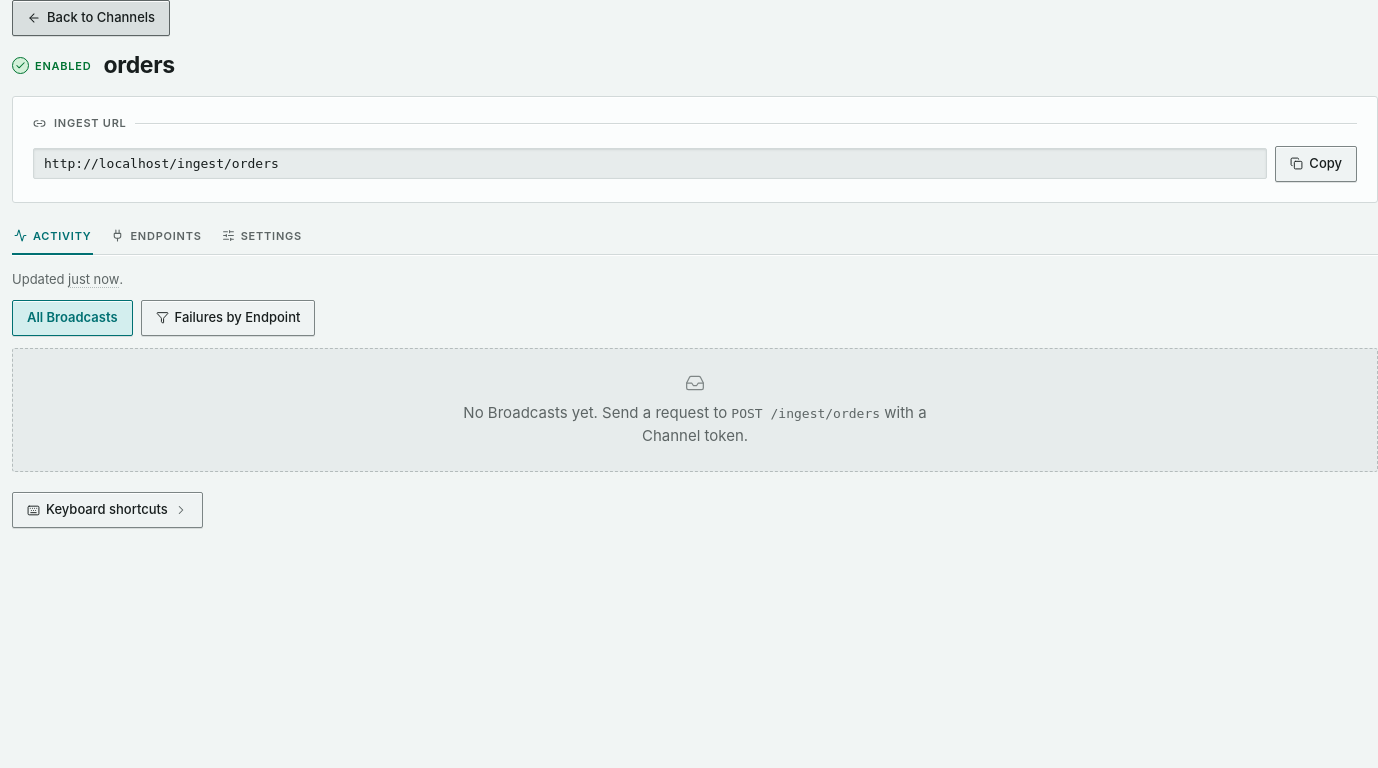
Ingest URL visibility (issue #47) › says so when the copy fails instead of appearing to do nothing
Step 1. Click the button "Copy" → coordinates (1316, 164), box [1275,146,1357,182]
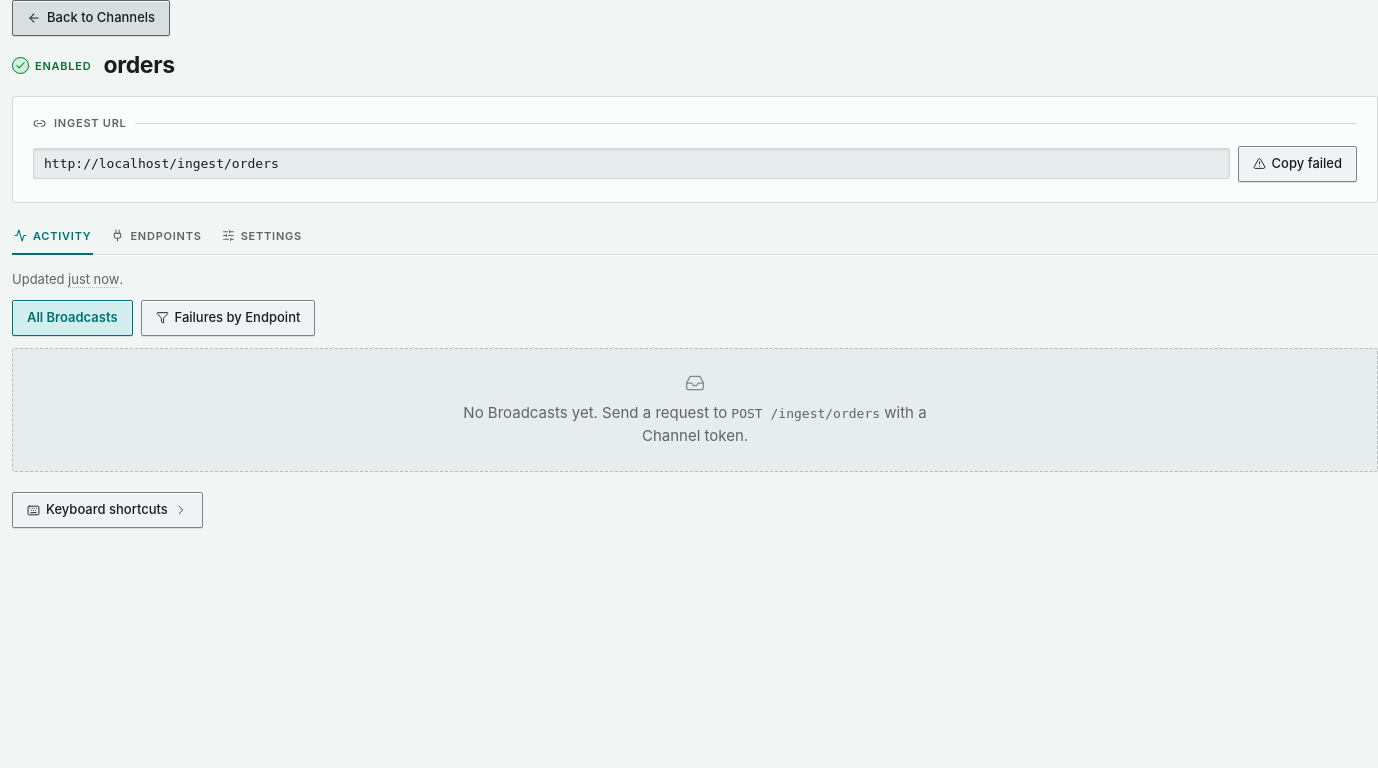
Expected: the button "Copy failed" is shown, [1238,146,1357,182]
